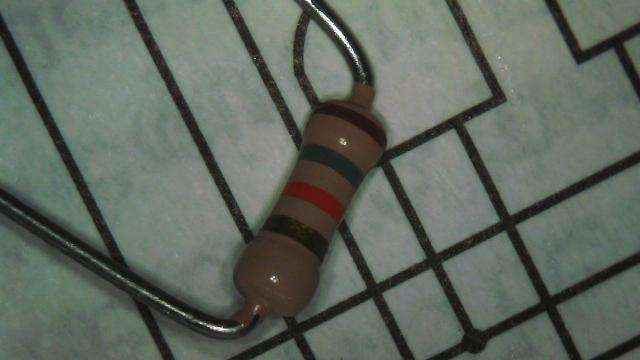brown: (313, 102, 384, 146)
gold: (264, 214, 328, 257)
grey: (299, 144, 364, 188)
orange: (283, 182, 344, 222)
resistor: (198, 73, 424, 341)
